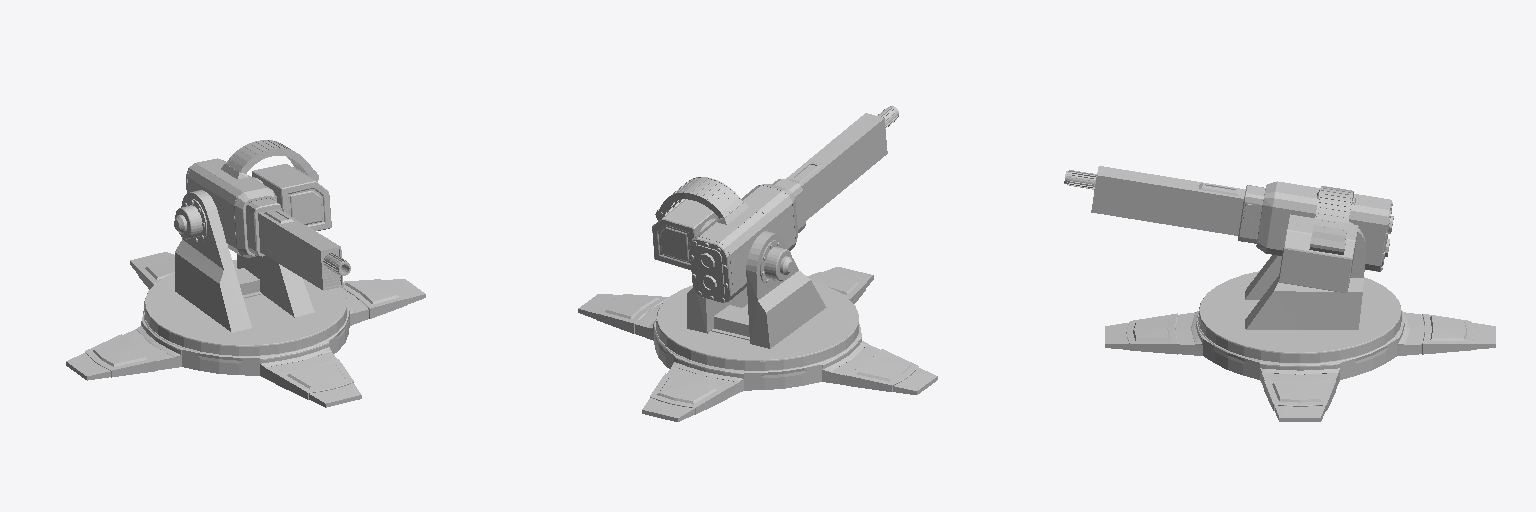
File: turret1.obj
3 renders of one model, left to right at view 1: azimuth 30°, elevation 25°; view 2: azimuth 150°, elevation 25°; view 3: azimuth 270°, elevation 25°, orthographic.
Visible parts, largest first — view 1: Motor; view 2: Motor; view 3: Motor.
Boxes of the visible parts, <box> form: Motor: <box>66,140,425,407</box>; Motor: <box>578,106,937,421</box>; Motor: <box>1064,166,1495,421</box>.
Size of the model in its own units: 5.17 by 2.43 by 5.71.